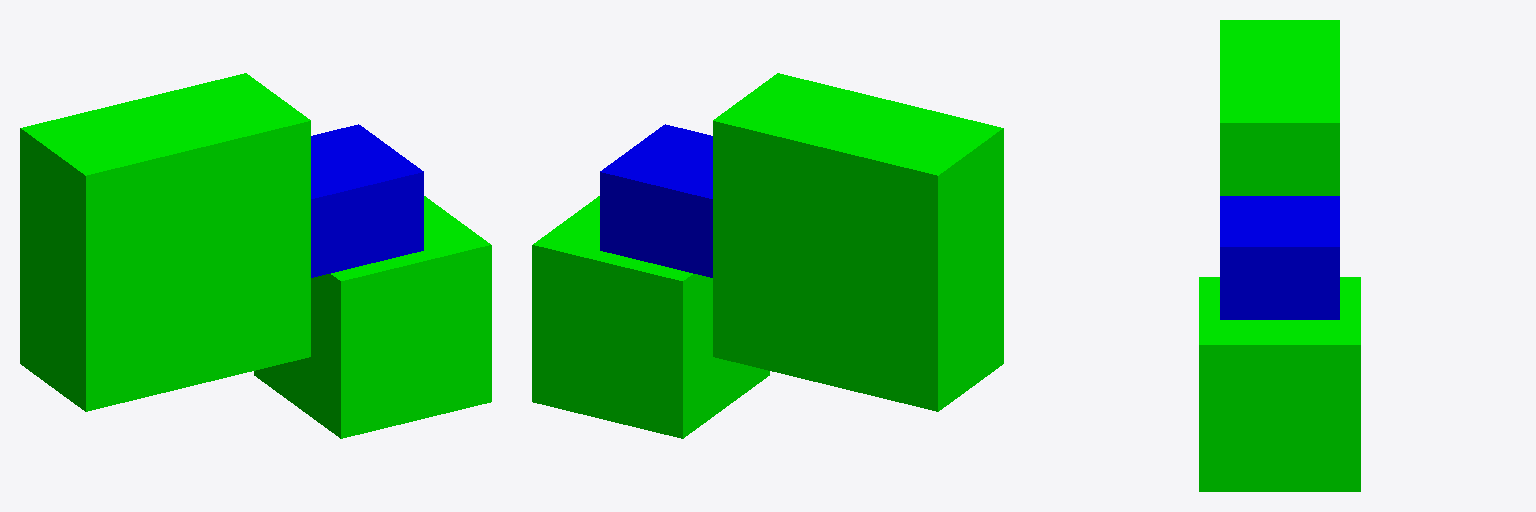
URDF robot description (robot):
<robot name = "robot">
    <link name="root">
        <inertial>
            <origin xyz="0.0 0.0 1.5" rpy="0 0 0"/>
            <mass value="1" />
            <inertia ixx="100" ixy="0" ixz="0" iyy="100" iyz="0" izz="100" />
        </inertial>
        <visual>
            <origin xyz="0.0 0.0 1.5" rpy="0 0 0"/>
            <geometry>
                <box size="0 0 0.0001" />
            </geometry>
            <material name="Green">
                <color rgba="0 1.0 0.0 1.0"/>
            </material>
        </visual>
        <collision>
            <origin xyz="0.0 0.0 1.5" rpy="0 0 0"/>
            <geometry>
                <box size="0 0 0.0001" />
            </geometry>
        </collision>
    </link>
    <joint name="root_000" type="revolute">
       <parent link="root"/>
       <child  link="000"/>
       <origin rpy="0 0 0" xyz="0.0 0.0 1.5" />
     <axis xyz="1 0 0"/>
       <limit effort="0.0" lower="-3.14159" upper="3.14159" velocity="0.0"/>
    </joint>
    <link name="000">
        <inertial>
            <origin xyz="0.0 0.0 -0.3" rpy="0 0 0"/>
            <mass value="1" />
            <inertia ixx="100" ixy="0" ixz="0" iyy="100" iyz="0" izz="100" />
        </inertial>
        <visual>
            <origin xyz="0.0 0.0 -0.3" rpy="0 0 0"/>
            <geometry>
                <box size="0.6 0.3 0.6" />
            </geometry>
            <material name="Green">
                <color rgba="0 1.0 0.0 1.0"/>
            </material>
        </visual>
        <collision>
            <origin xyz="0.0 0.0 -0.3" rpy="0 0 0"/>
            <geometry>
                <box size="0.6 0.3 0.6" />
            </geometry>
        </collision>
    </link>
    <joint name="000_000-100" type="revolute">
       <parent link="000"/>
       <child  link="000-100"/>
       <origin rpy="0 0 0" xyz="0.3 0.0 -0.3" />
     <axis xyz="1 0 0"/>
       <limit effort="0.0" lower="-3.14159" upper="3.14159" velocity="0.0"/>
    </joint>
    <link name="000-100">
        <inertial>
            <origin xyz="0.05 0.0 -0.0" rpy="0 0 0"/>
            <mass value="1" />
            <inertia ixx="100" ixy="0" ixz="0" iyy="100" iyz="0" izz="100" />
        </inertial>
        <visual>
            <origin xyz="0.05 0.0 -0.0" rpy="0 0 0"/>
            <geometry>
                <box size="0.1 0.3 0.2" />
            </geometry>
            <material name="Blue">
                <color rgba="0 0.0 1.0 1.0"/>
            </material>
        </visual>
        <collision>
            <origin xyz="0.05 0.0 -0.0" rpy="0 0 0"/>
            <geometry>
                <box size="0.1 0.3 0.2" />
            </geometry>
        </collision>
    </link>
    <joint name="000-100_000-110" type="revolute">
       <parent link="000-100"/>
       <child  link="000-110"/>
       <origin rpy="0 0 0" xyz="0.1 0.0 -0.0" />
     <axis xyz="1 0 0"/>
       <limit effort="0.0" lower="-3.14159" upper="3.14159" velocity="0.0"/>
    </joint>
    <link name="000-110">
        <inertial>
            <origin xyz="0.05 0.0 -0.0" rpy="0 0 0"/>
            <mass value="1" />
            <inertia ixx="100" ixy="0" ixz="0" iyy="100" iyz="0" izz="100" />
        </inertial>
        <visual>
            <origin xyz="0.05 0.0 -0.0" rpy="0 0 0"/>
            <geometry>
                <box size="0.1 0.3 0.2" />
            </geometry>
            <material name="Blue">
                <color rgba="0 0.0 1.0 1.0"/>
            </material>
        </visual>
        <collision>
            <origin xyz="0.05 0.0 -0.0" rpy="0 0 0"/>
            <geometry>
                <box size="0.1 0.3 0.2" />
            </geometry>
        </collision>
    </link>
    <joint name="000-110_000-120" type="revolute">
       <parent link="000-110"/>
       <child  link="000-120"/>
       <origin rpy="0 0 0" xyz="0.1 0.0 -0.0" />
     <axis xyz="1 0 0"/>
       <limit effort="0.0" lower="-3.14159" upper="3.14159" velocity="0.0"/>
    </joint>
    <link name="000-120">
        <inertial>
            <origin xyz="0.05 0.0 -0.0" rpy="0 0 0"/>
            <mass value="1" />
            <inertia ixx="100" ixy="0" ixz="0" iyy="100" iyz="0" izz="100" />
        </inertial>
        <visual>
            <origin xyz="0.05 0.0 -0.0" rpy="0 0 0"/>
            <geometry>
                <box size="0.1 0.3 0.2" />
            </geometry>
            <material name="Blue">
                <color rgba="0 0.0 1.0 1.0"/>
            </material>
        </visual>
        <collision>
            <origin xyz="0.05 0.0 -0.0" rpy="0 0 0"/>
            <geometry>
                <box size="0.1 0.3 0.2" />
            </geometry>
        </collision>
    </link>
    <joint name="000-120_000-120-200" type="revolute">
       <parent link="000-120"/>
       <child  link="000-120-200"/>
       <origin rpy="0 0 0" xyz="0.05 0.0 -0.1" />
     <axis xyz="0 0 1"/>
       <limit effort="0.0" lower="-3.14159" upper="3.14159" velocity="0.0"/>
    </joint>
    <link name="000-120-200">
        <inertial>
            <origin xyz="0.0 0.0 -0.2" rpy="0 0 0"/>
            <mass value="1" />
            <inertia ixx="100" ixy="0" ixz="0" iyy="100" iyz="0" izz="100" />
        </inertial>
        <visual>
            <origin xyz="0.0 0.0 -0.2" rpy="0 0 0"/>
            <geometry>
                <box size="0.4 0.4 0.4" />
            </geometry>
            <material name="Green">
                <color rgba="0 1.0 0.0 1.0"/>
            </material>
        </visual>
        <collision>
            <origin xyz="0.0 0.0 -0.2" rpy="0 0 0"/>
            <geometry>
                <box size="0.4 0.4 0.4" />
            </geometry>
        </collision>
    </link>
</robot>

--- What the picture shows (computed from the rendered views, not written in the file) ---
Views: 3 orthographic renders of the robot side by side, from view 1: azimuth 30°, elevation 25°; view 2: azimuth 150°, elevation 25°; view 3: azimuth 270°, elevation 25°.
Model robot with 6 links and 5 joints (5 revolute), rooted at root, posed all joints at 0.
Visible links, largest first — view 1: 000, [phone redacted], 000-120, 000-110, 000-100; view 2: 000, [phone redacted], 000-120, 000-110, 000-100; view 3: [phone redacted], 000, 000-120, 000-100, 000-110.
Link boxes in pixels (box(x1,y1,x2,y2)): 000: box(20, 73, 310, 411); [phone redacted]: box(254, 196, 491, 438); 000-120: box(322, 124, 423, 259); 000-110: box(311, 133, 386, 268); 000-100: box(311, 163, 348, 277); 000: box(713, 73, 1003, 411); [phone redacted]: box(532, 196, 769, 438); 000-120: box(600, 124, 701, 259); 000-110: box(637, 133, 712, 268); 000-100: box(675, 163, 712, 277); [phone redacted]: box(1199, 277, 1360, 491); 000: box(1220, 20, 1339, 195); 000-120: box(1220, 230, 1339, 319); 000-100: box(1220, 196, 1339, 212); 000-110: box(1220, 213, 1339, 229).
Size in the robot's own frame: 1.05 by 0.4 by 0.8 metres.
Geometry: primitives only (box / cylinder / sphere), no mesh files.
